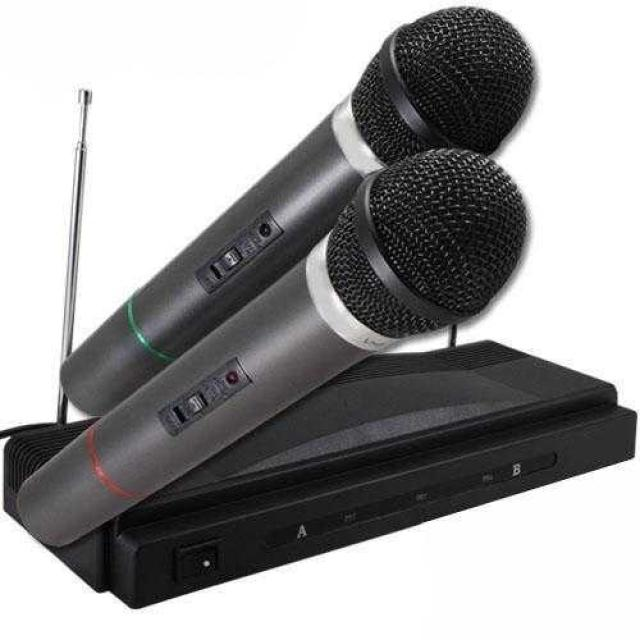microphone: (17, 151, 543, 555), (60, 4, 545, 414)
